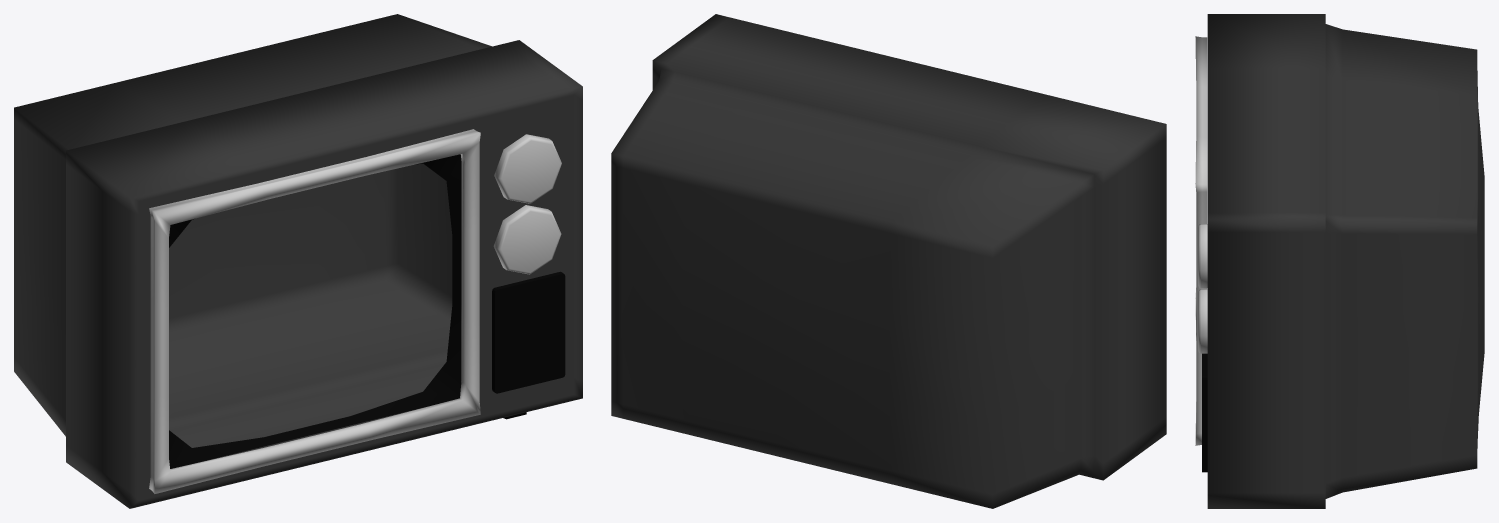
File: old tv_wo_screen.glb
The picture shows the model from 3 angles, left to right: view 1: azimuth 30°, elevation 25°; view 2: azimuth 150°, elevation 25°; view 3: azimuth 270°, elevation 25°; orthographic projection. The views are drawn at different scales.
Visible parts, largest first — view 1: Cube, Cube.003, Cube.001, Cylinder.001, Cylinder.002; view 2: Cube; view 3: Cube, Cube.003, Cube.001, Cylinder.002, Cylinder.001.
Boxes of the visible parts, x1,y1,x2,y2 form: Cube: [14, 14, 582, 508]; Cube.003: [149, 129, 480, 493]; Cube.001: [492, 271, 565, 393]; Cylinder.001: [493, 205, 561, 274]; Cylinder.002: [494, 134, 561, 203]; Cube: [611, 14, 1166, 508]; Cube: [1207, 14, 1484, 508]; Cube.003: [1195, 36, 1207, 445]; Cube.001: [1202, 353, 1207, 472]; Cylinder.002: [1198, 224, 1207, 288]; Cylinder.001: [1198, 289, 1207, 353].
Size of the model in its own units: 3.17 by 2.14 by 1.88.
Materials: 1 (1 with a texture image).
